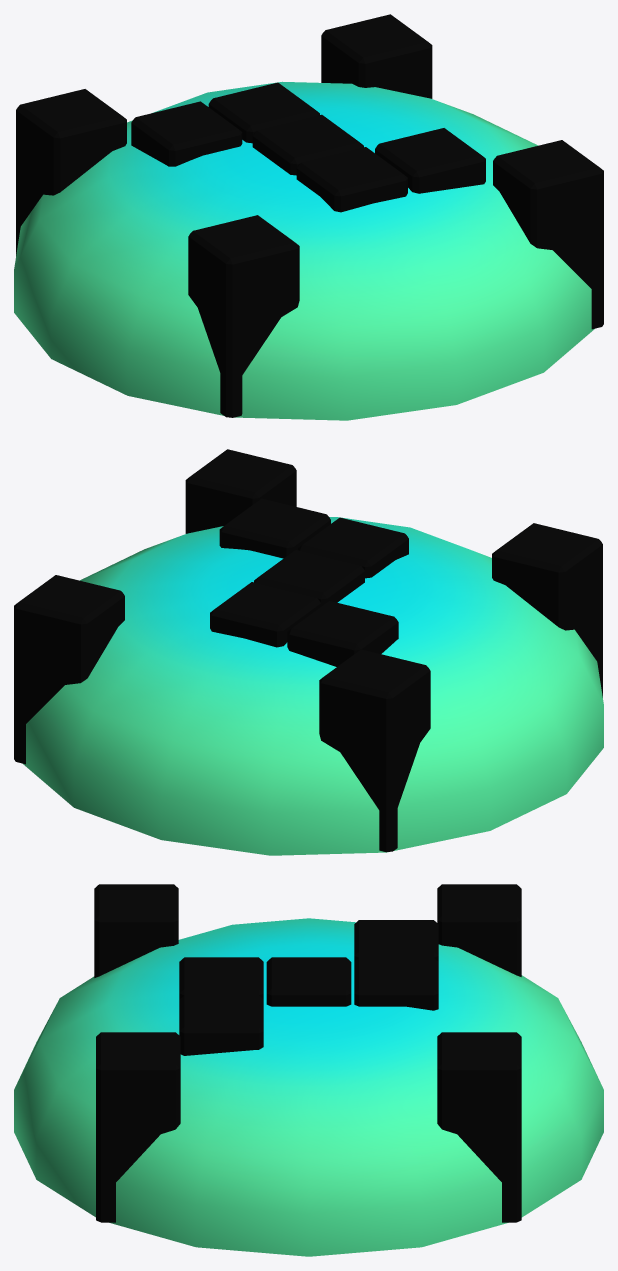
The model's file is Button.glb.
3 views of the same model, one above another, from view 1: azimuth 30°, elevation 25°; view 2: azimuth 150°, elevation 25°; view 3: azimuth 270°, elevation 25° (orthographic).
Parts seen in each view (by area): view 1: Button.001; view 2: Button.001; view 3: Button.001.
Part boxes in pixels (x1,y1,x2,y2): Button.001: [14, 14, 603, 420]; Button.001: [14, 449, 603, 855]; Button.001: [14, 884, 603, 1256].
Bounding box in the file's own units: 0.9275 × 0.2757 × 0.9275.
Materials: 1 (1 with a texture image).
